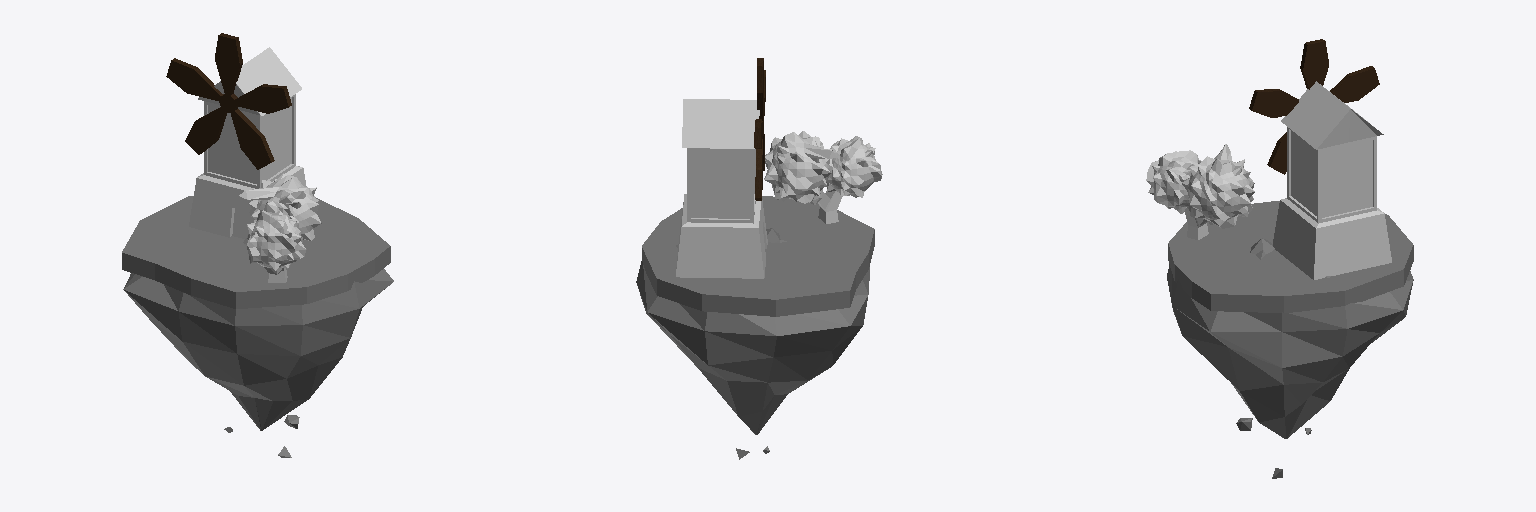
3 renders of one model, left to right at view 1: azimuth 30°, elevation 25°; view 2: azimuth 150°, elevation 25°; view 3: azimuth 270°, elevation 25°, orthographic.
Parts seen in each view (by area): view 1: Island, Green_platform, Mill, propeller, Tree; view 2: Island, Green_platform, Mill, Tree, propeller; view 3: Island, Mill, Green_platform, Tree, propeller.
Boxes of the visible parts, <box> form: Island: <box>123,269,393,457</box>; Green_platform: <box>122,196,390,308</box>; Mill: <box>189,47,306,238</box>; propeller: <box>166,33,291,169</box>; Tree: <box>239,173,321,282</box>; Island: <box>636,228,869,459</box>; Green_platform: <box>642,196,874,316</box>; Mill: <box>676,99,767,278</box>; Tree: <box>764,131,882,223</box>; propeller: <box>754,58,765,200</box>; Island: <box>1167,238,1413,478</box>; Mill: <box>1273,81,1391,279</box>; Green_platform: <box>1168,201,1413,312</box>; Tree: <box>1146,144,1254,239</box>; propeller: <box>1249,39,1379,174</box>.
Bounding box in the file's own units: 105 × 195 × 113.
Materials: 4 (1 with a texture image).